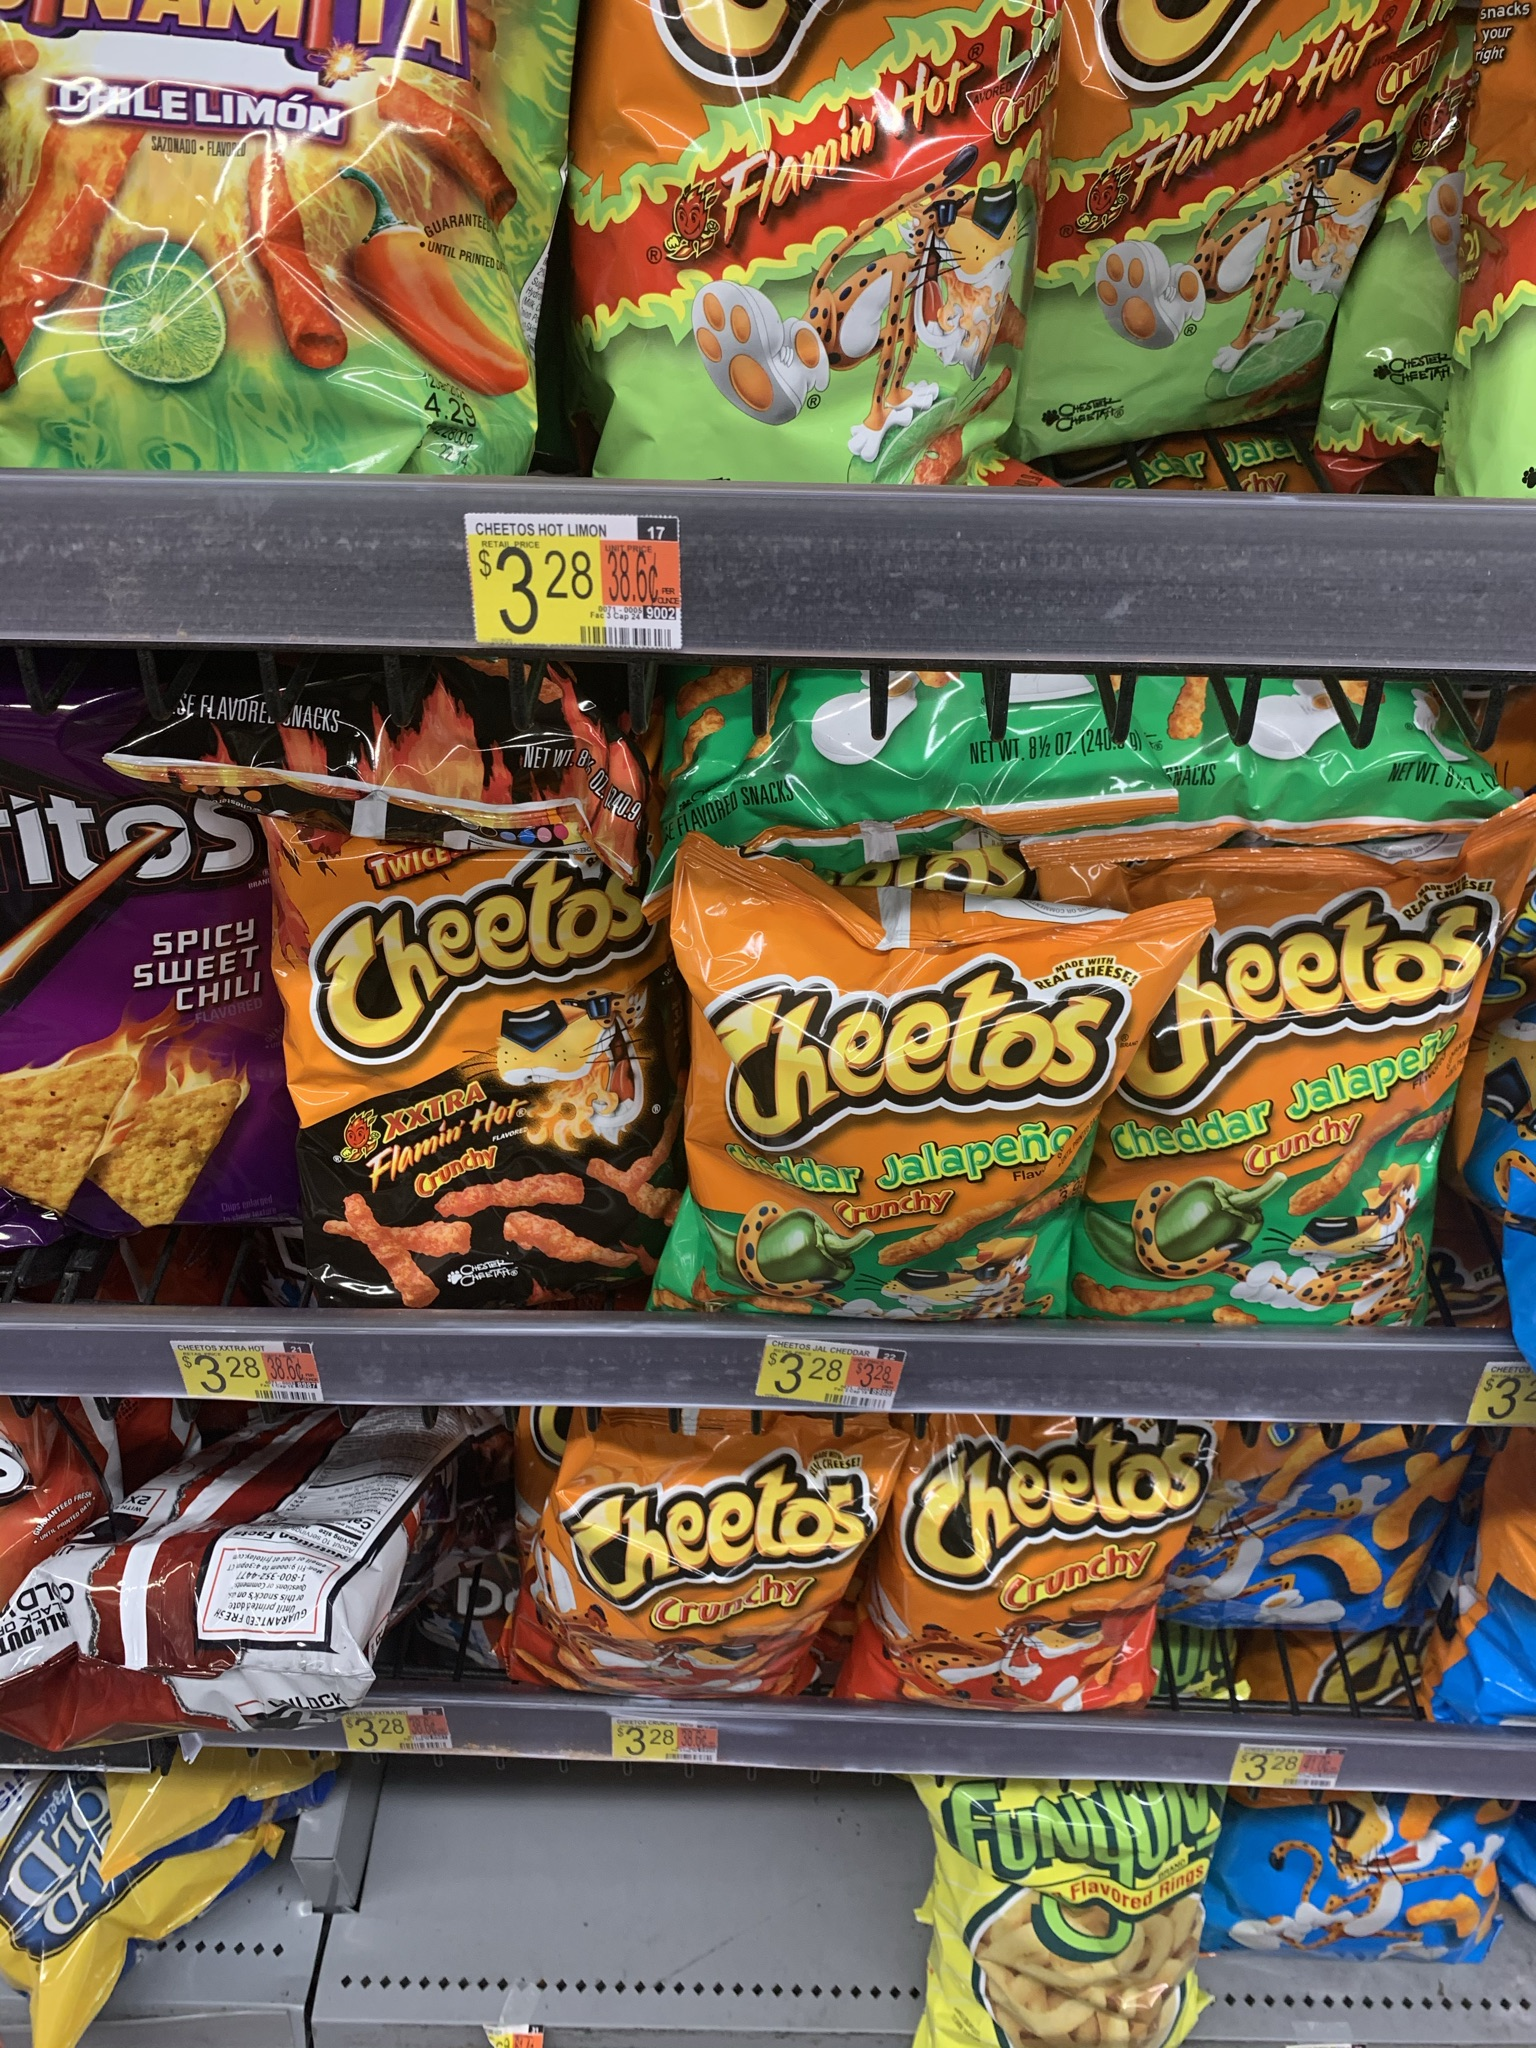Chips: (674, 848, 1125, 1330), (257, 801, 662, 1301), (899, 1432, 1204, 1725), (553, 1434, 883, 1695), (912, 1780, 1213, 2048)
